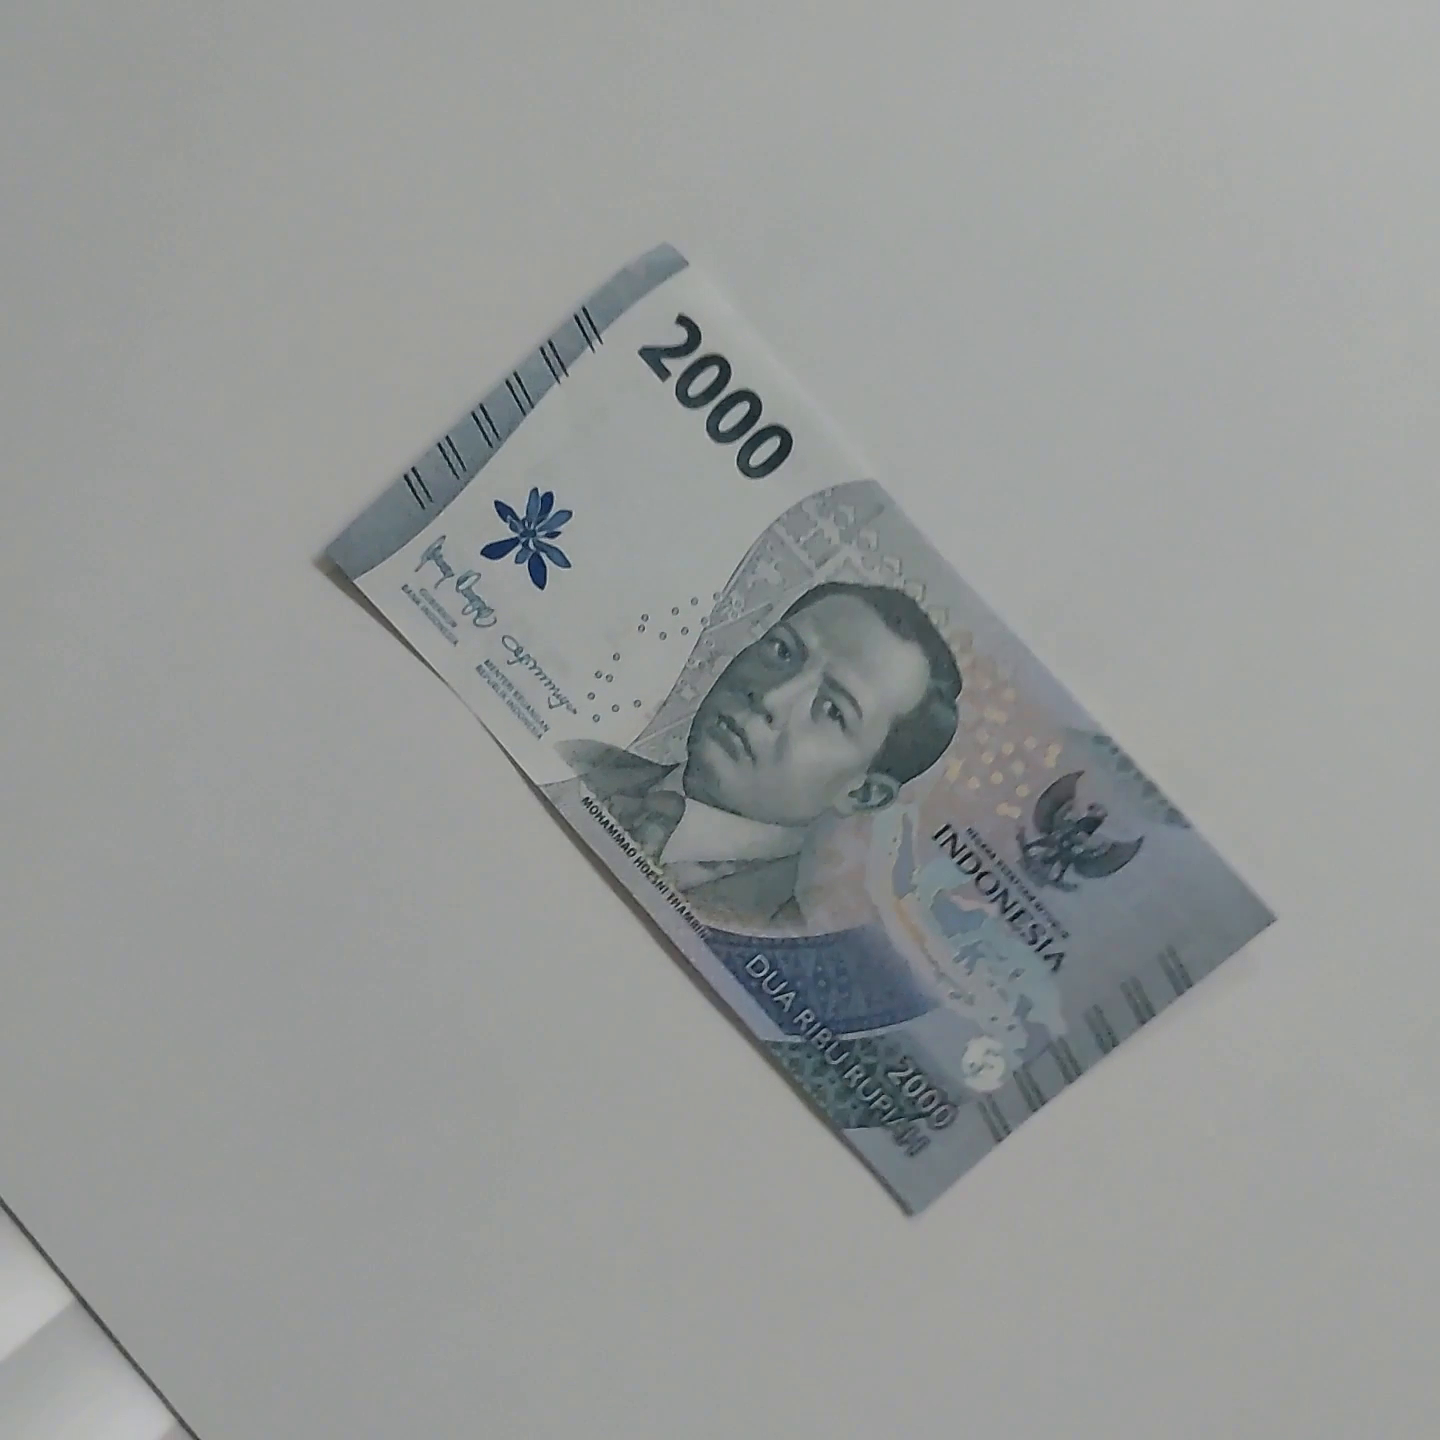2k: (245, 554, 828, 1440)
